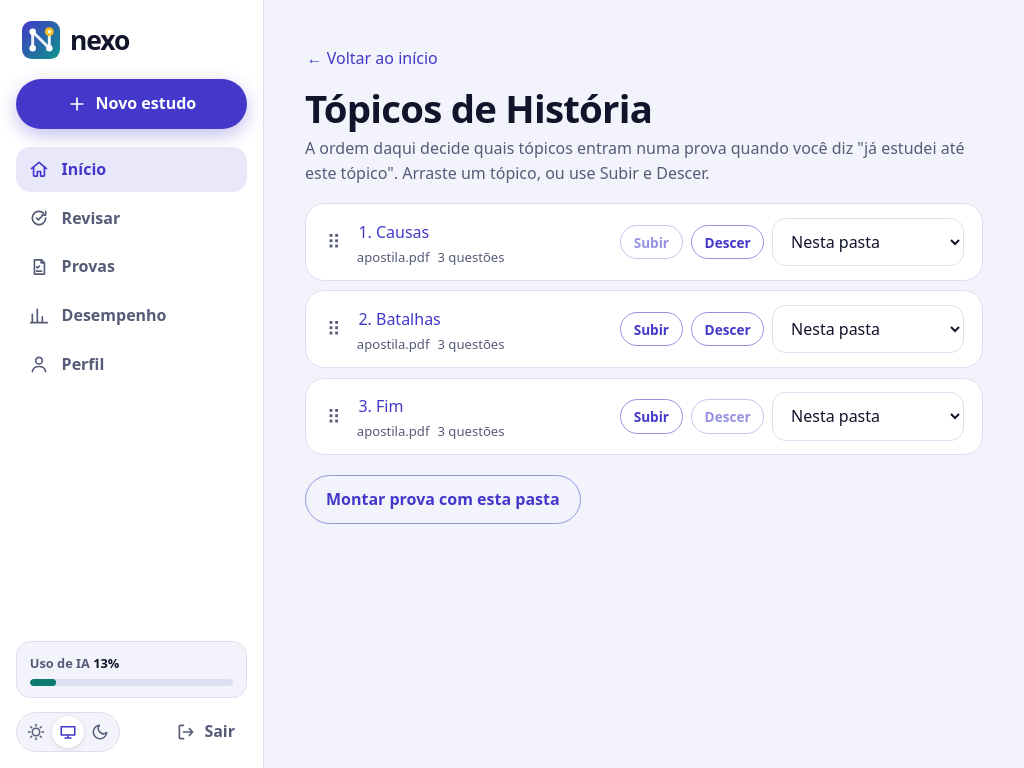
se o servidor recusar a ordem, a lista volta ao que era e explica
Click the button with aria-label "Descer Causas" at [728, 242], box [691, 225, 764, 259]
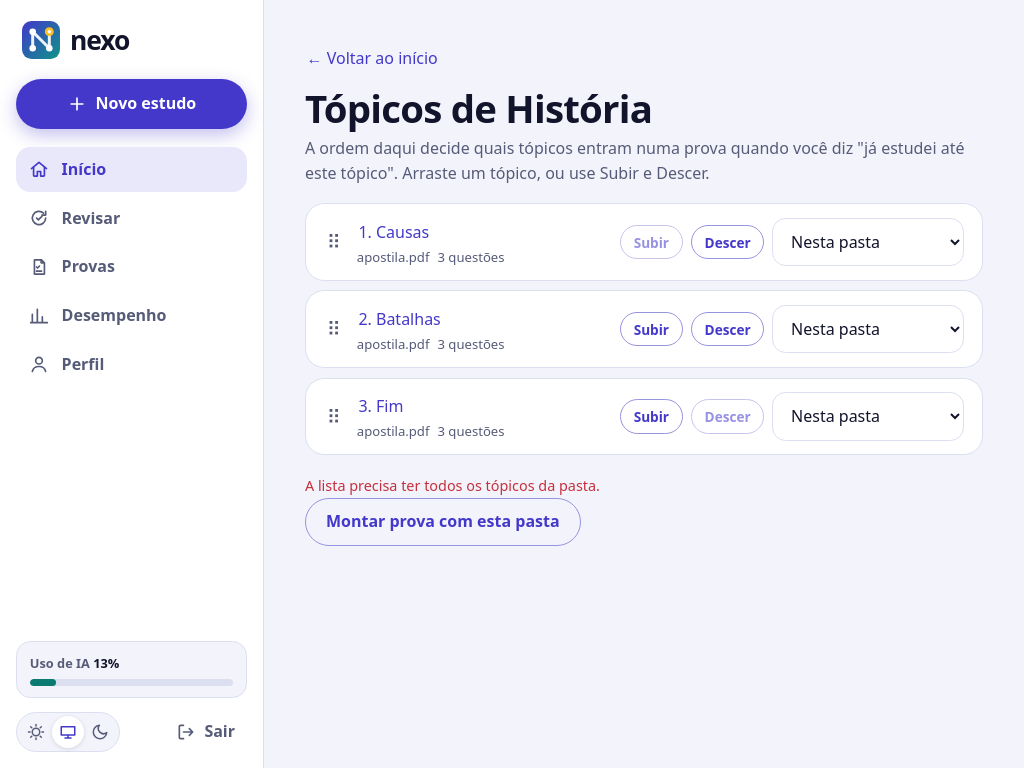
Result: the message shows "precisa ter todos os tópicos" at [305, 476, 600, 495]
